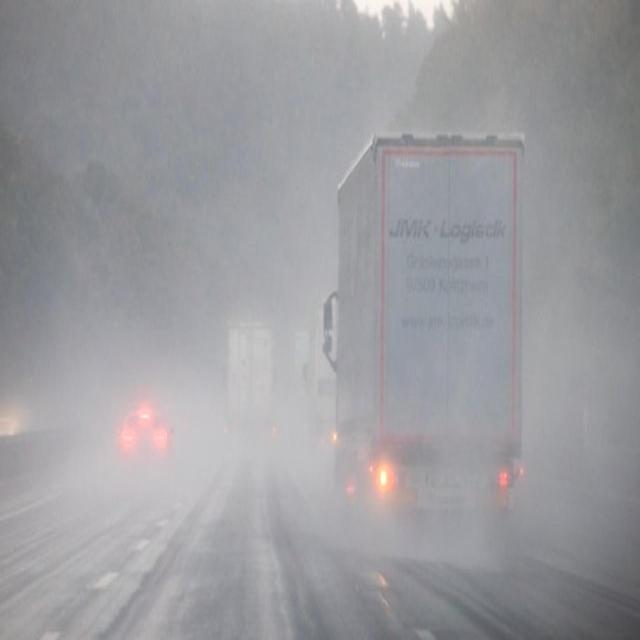Car: (115, 404, 173, 469)
Truck: (322, 135, 526, 528)
